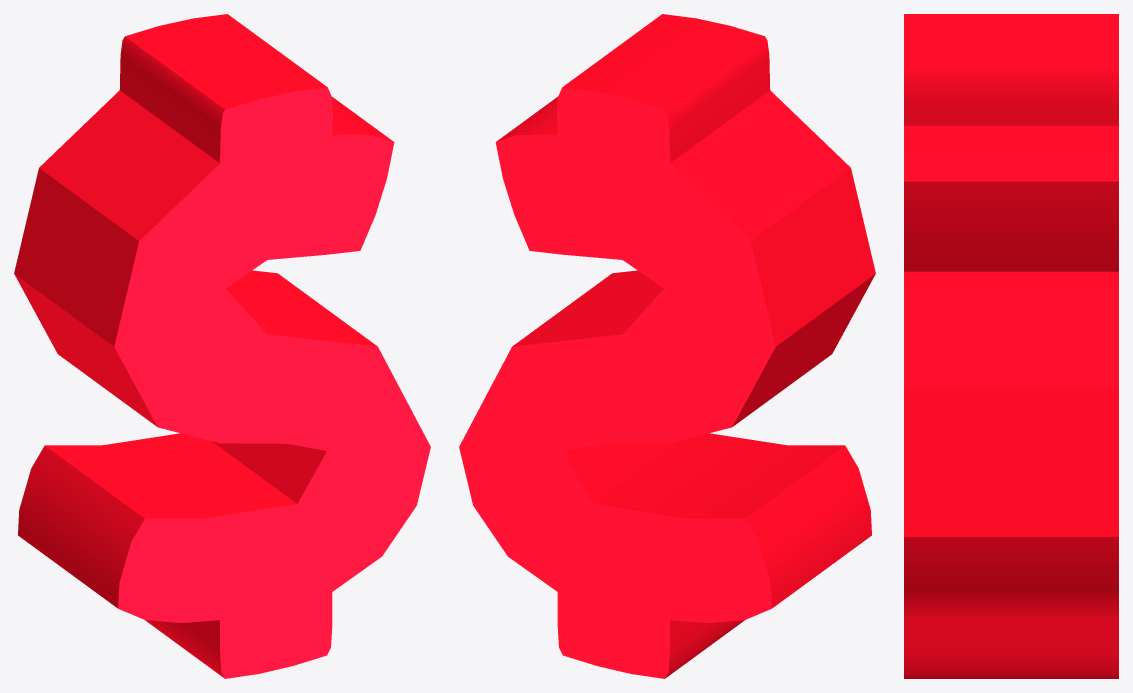
Rendered from symbol$_Zyzol_Red.glb.
3 renders of one model, left to right at view 1: azimuth 30°, elevation 25°; view 2: azimuth 150°, elevation 25°; view 3: azimuth 270°, elevation 25°, orthographic. The views are drawn at different scales.
Visible parts, largest first — view 1: $_Zyzol_Red; view 2: $_Zyzol_Red; view 3: $_Zyzol_Red.
Part boxes in pixels (x1,y1,x2,y2): $_Zyzol_Red: [14, 14, 430, 678]; $_Zyzol_Red: [459, 14, 875, 678]; $_Zyzol_Red: [904, 14, 1118, 678].
Size of what is drawn, in the model's own units: 0.0821 by 0.1425 by 0.045.
2 materials, 2 textured.
